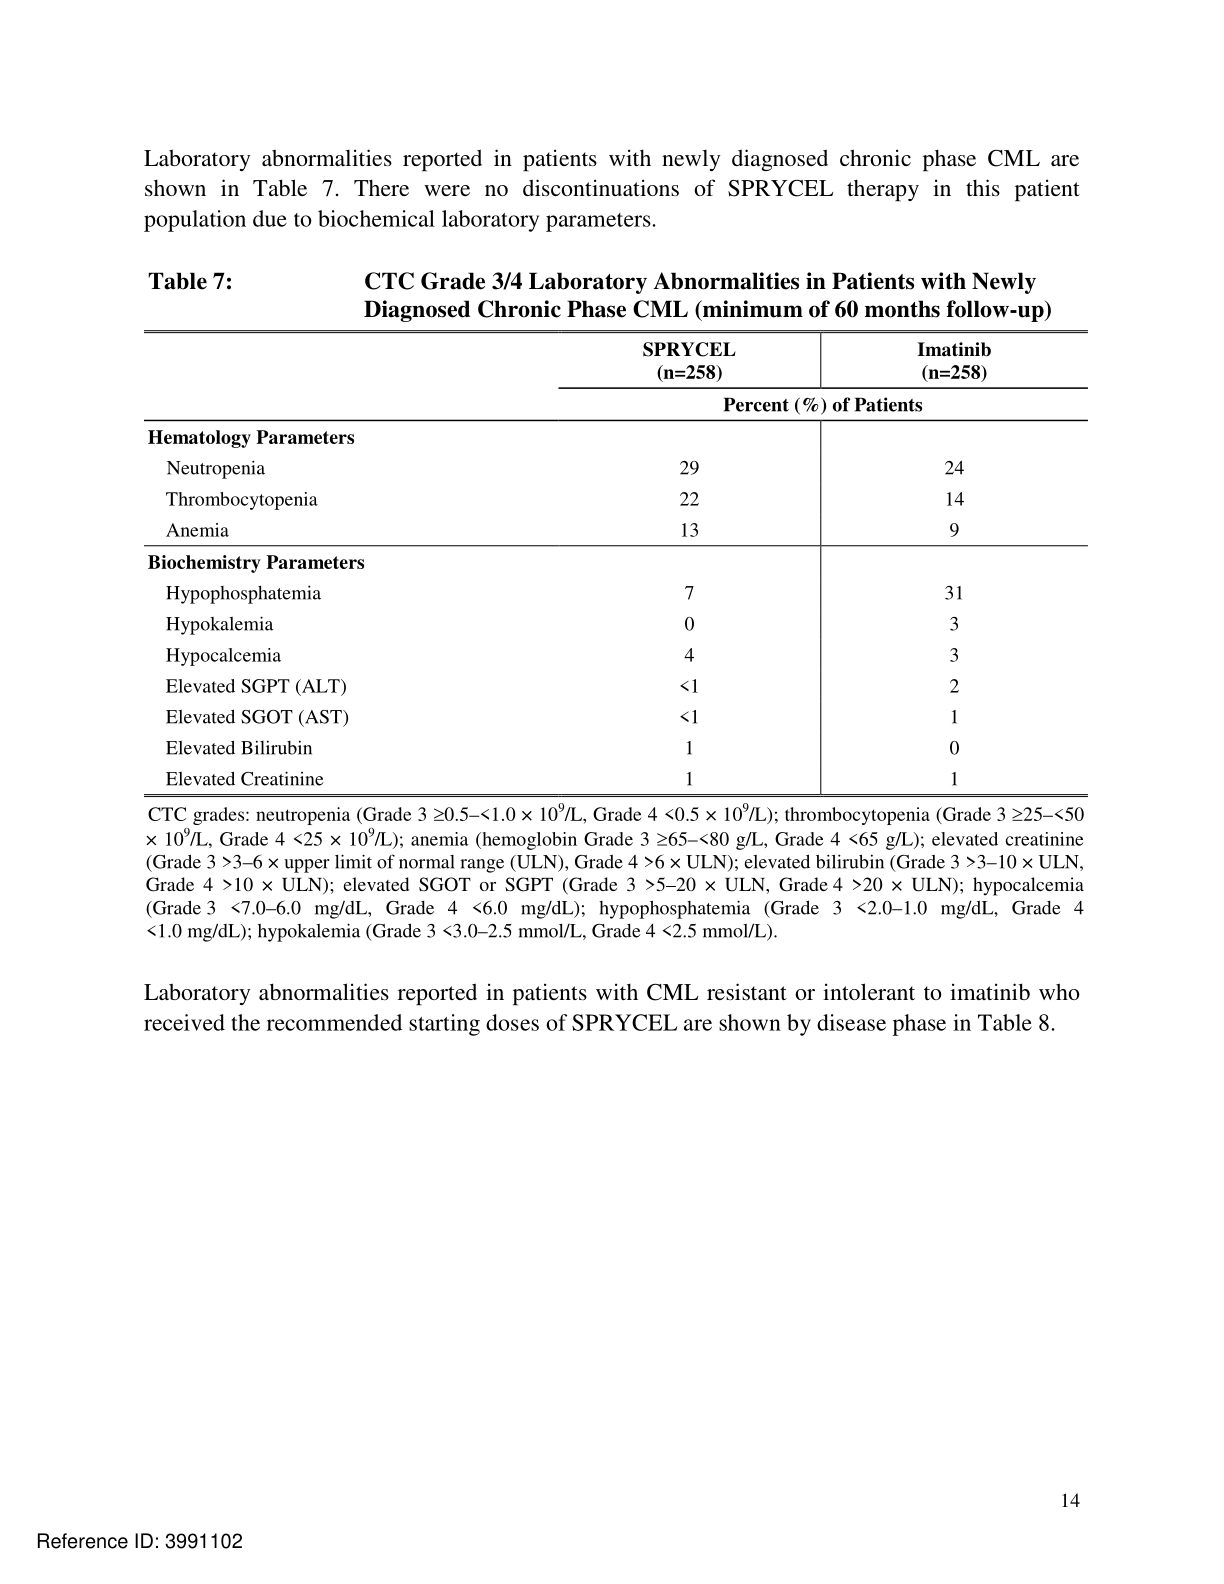partial_lined_merged_cells: (141, 328, 1089, 798)
